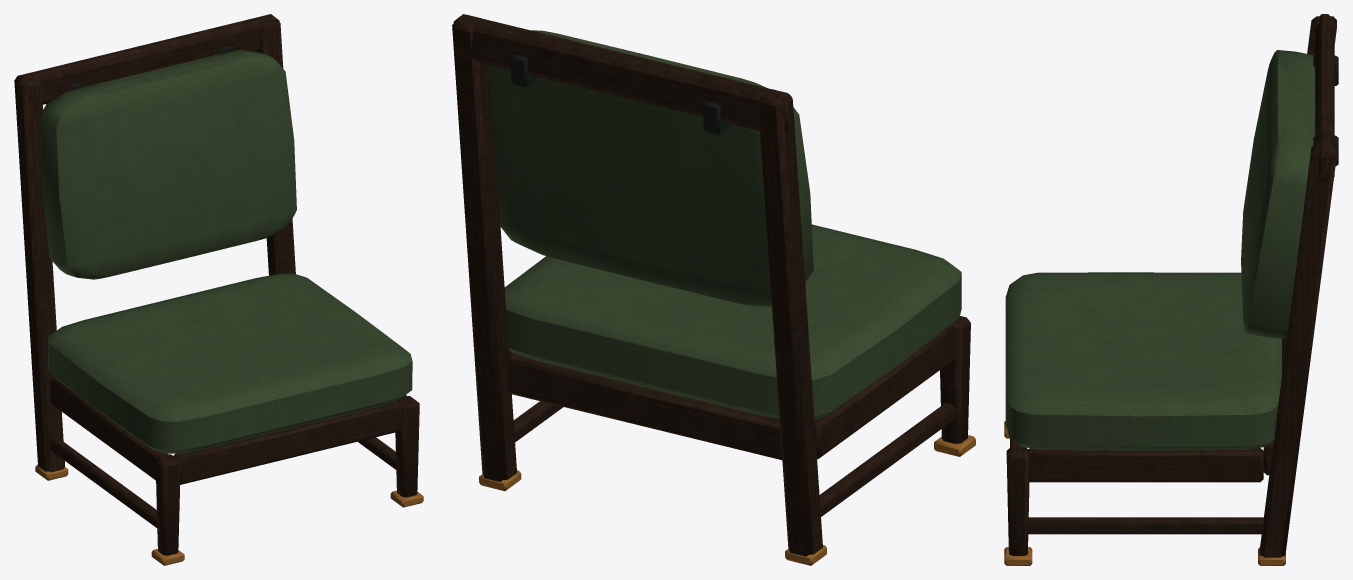
The model's file is arrival-chair.lod1.glb.
3 views of the same model, side by side, from view 1: azimuth 30°, elevation 25°; view 2: azimuth 150°, elevation 25°; view 3: azimuth 270°, elevation 25° (orthographic). The views are drawn at different scales.
Visible parts, largest first — view 1: arrival_chair_Fabric • moss weave, arrival_chair_Timber • oiled walnut, arrival_chair_Trim • brass and bronze; view 2: arrival_chair_Fabric • moss weave, arrival_chair_Timber • oiled walnut, arrival_chair_Trim • brass and bronze; view 3: arrival_chair_Fabric • moss weave, arrival_chair_Timber • oiled walnut, arrival_chair_Trim • brass and bronze.
Part boxes in pixels (x1,y1,x2,y2): arrival_chair_Fabric • moss weave: [40, 50, 412, 453]; arrival_chair_Timber • oiled walnut: [14, 14, 419, 555]; arrival_chair_Trim • brass and bronze: [35, 46, 423, 565]; arrival_chair_Fabric • moss weave: [488, 30, 961, 419]; arrival_chair_Timber • oiled walnut: [452, 14, 970, 556]; arrival_chair_Trim • brass and bronze: [479, 54, 975, 565]; arrival_chair_Fabric • moss weave: [1005, 50, 1315, 450]; arrival_chair_Timber • oiled walnut: [1006, 14, 1336, 557]; arrival_chair_Trim • brass and bronze: [1004, 55, 1338, 565].
Size of the model in its own units: 0.5978 by 0.825 by 0.5994.
3 materials, 3 textured.
